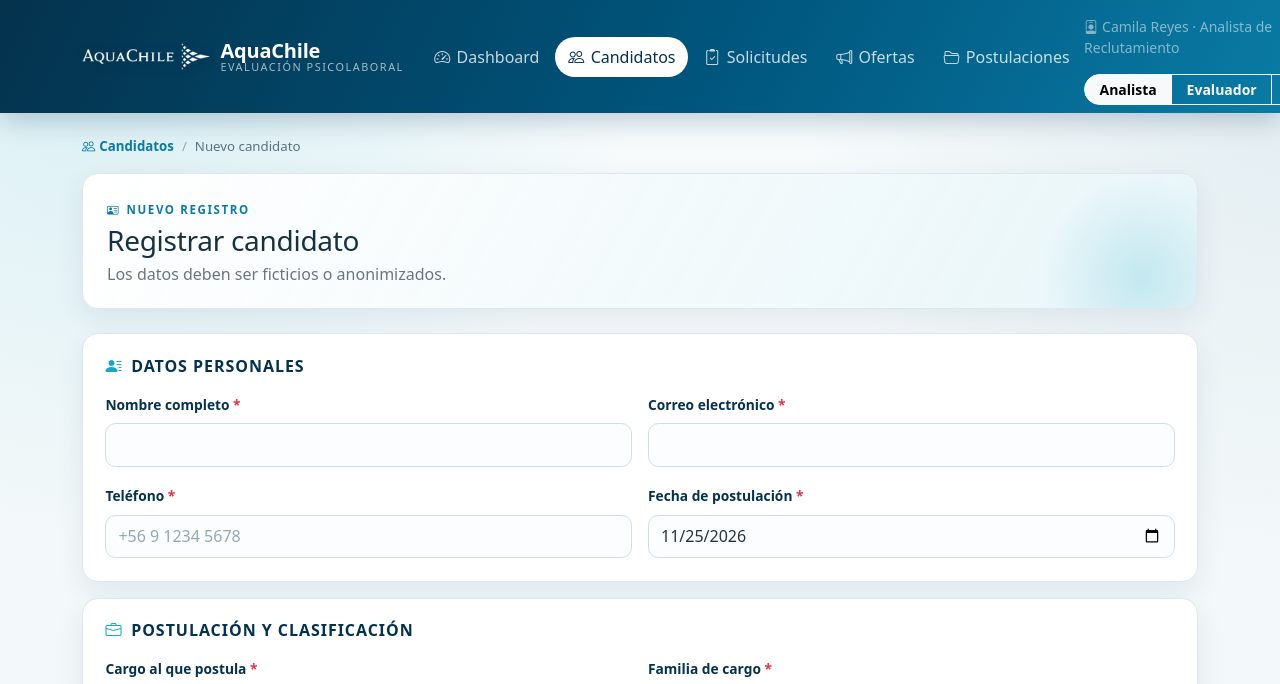
CandidatoFormPage — estados y permisos › valida nombre corto, teléfono y fecha futura
Type "Al" into the field labelled "Nombre completo *". click: (369, 445)
box: [105,423,632,467]
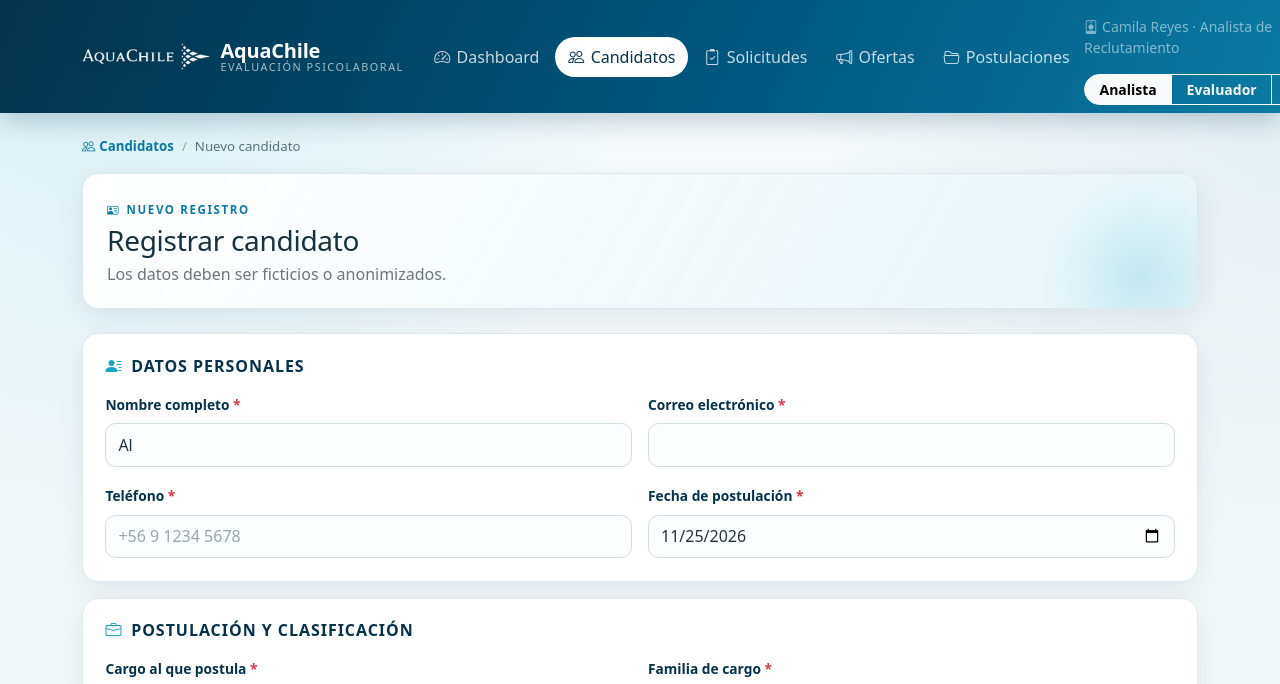
Type "abc" into the field labelled "Teléfono *". click: (369, 536)
box: [105,515,632,558]
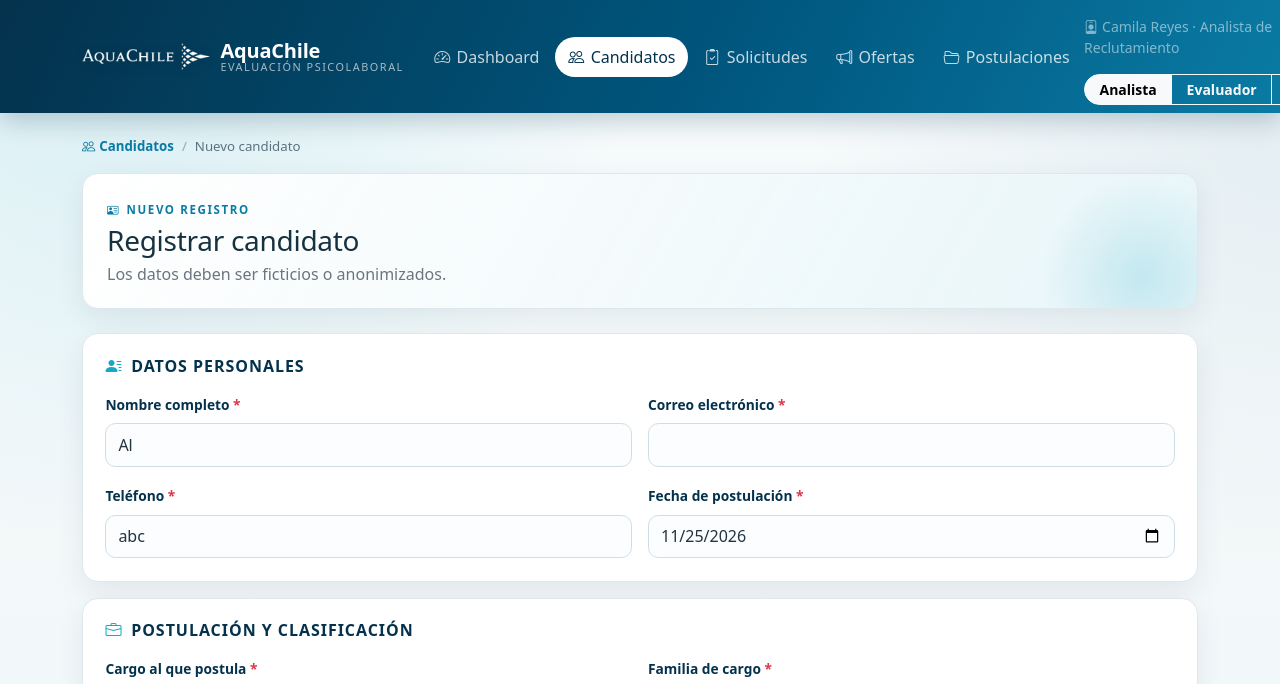
Type "2099-01-01" into the date field labelled "Fecha de postulación *". click: (911, 536)
box: [648,515,1175,558]
(page scrolled)
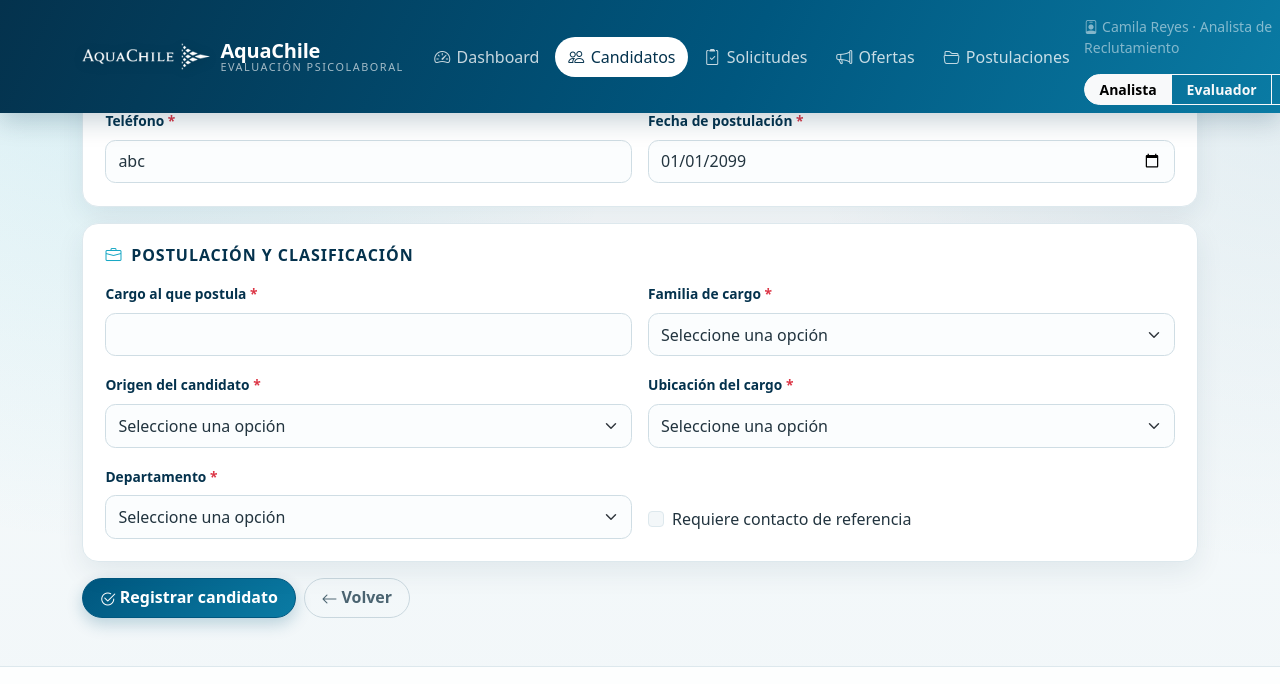
Click the button "Registrar candidato". click: (189, 598)
box: [82,578,296,618]
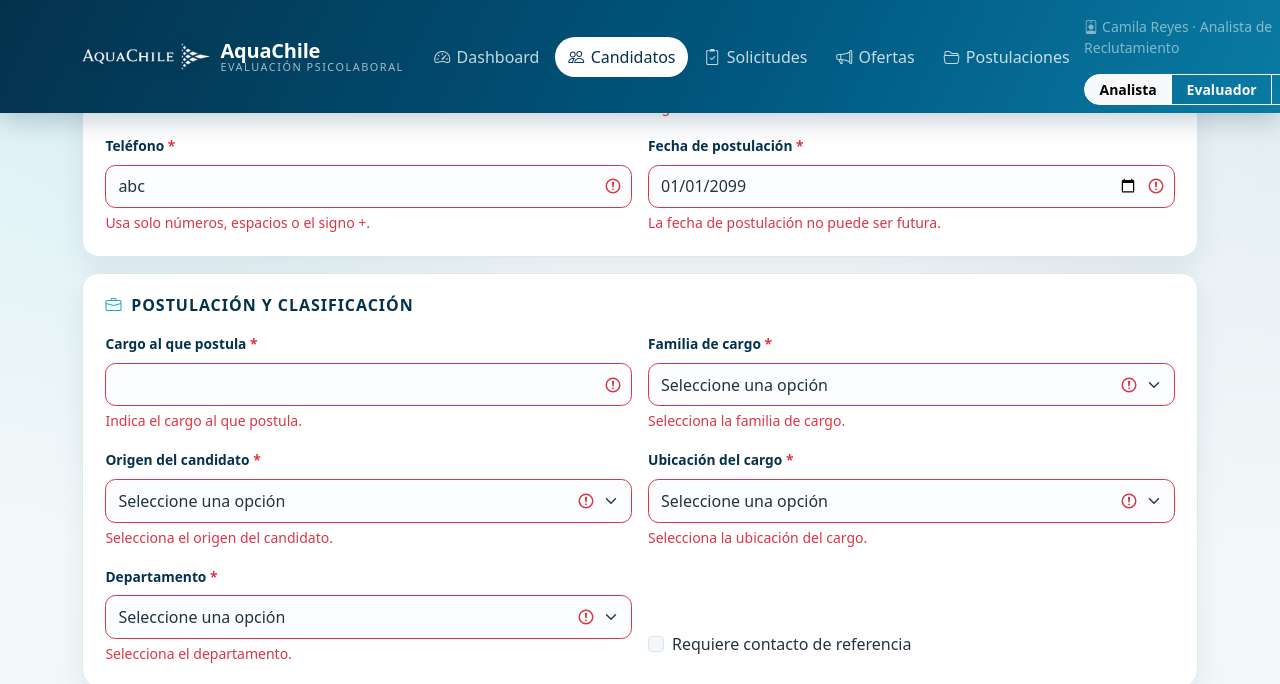
Check: the text "El nombre debe tener al menos 3 caracteres." is shown, box [105,97,398,116]
Check: the text "Usa solo números, espacios o el signo +." is shown, box [105,213,370,232]
Check: the text "La fecha de postulación no puede ser futura." is shown, box [648,213,941,232]
